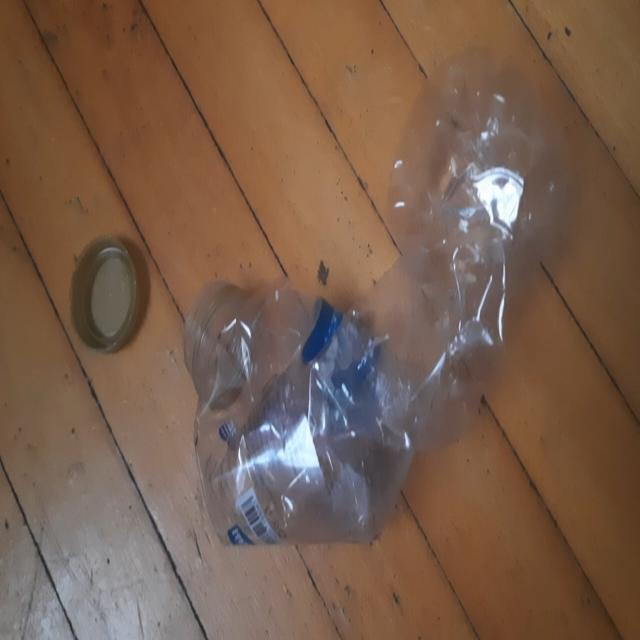Plastic: (185, 45, 561, 548), (70, 237, 150, 357)
